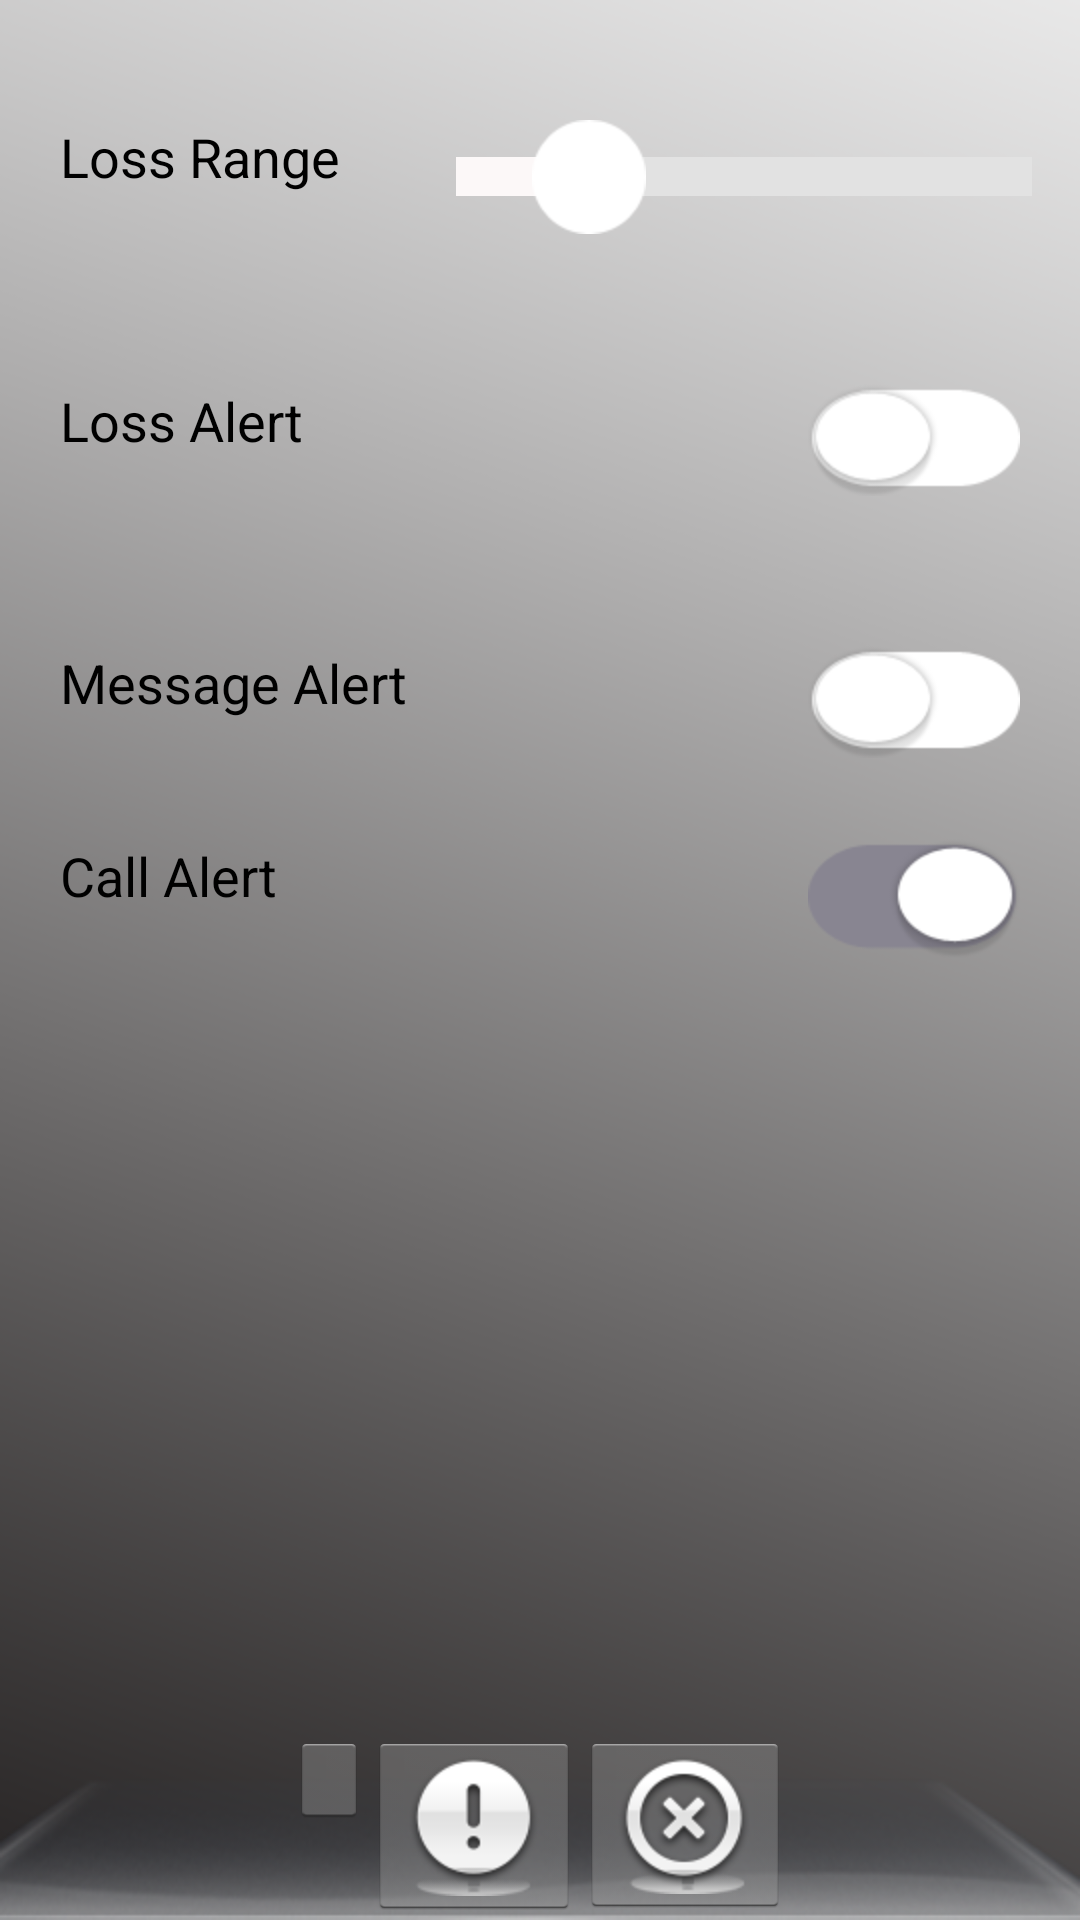

Screen size 1080px x 1920px. Icon name, then its box in pixels as (x1, y1, x2, y2):
info: (368, 1744, 580, 1920)
off: (812, 390, 1020, 492), (812, 651, 1020, 750), (580, 1744, 790, 1918)
